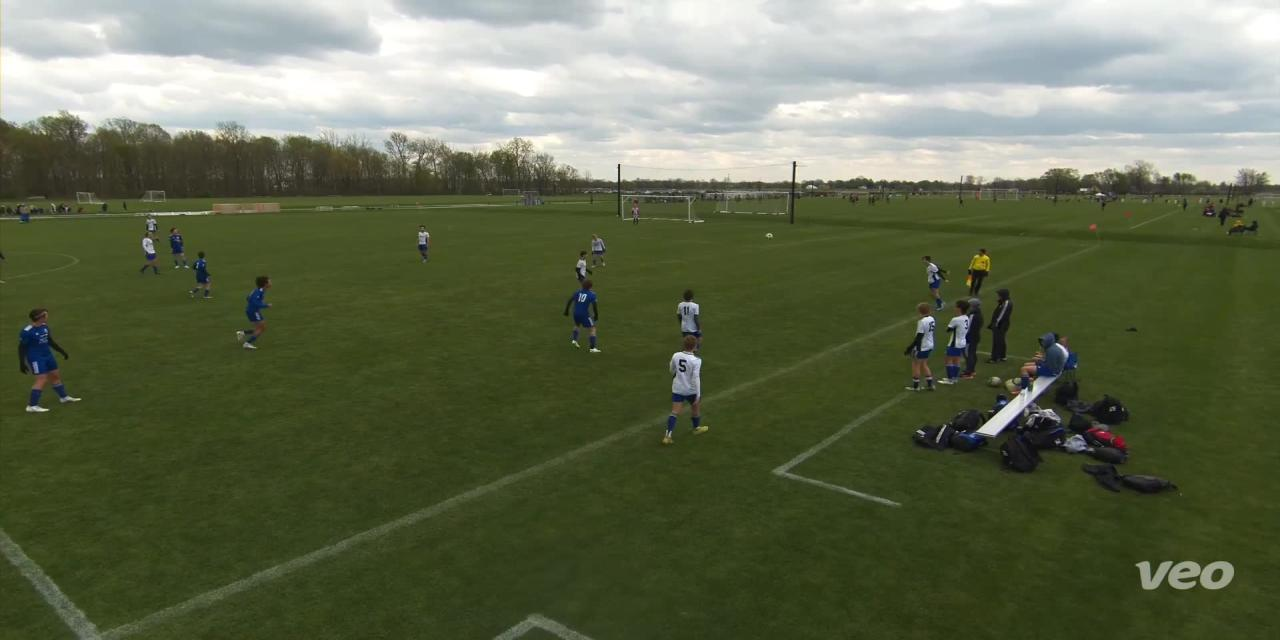goal: (619, 188, 707, 225)
sports ball: (761, 227, 777, 244)
